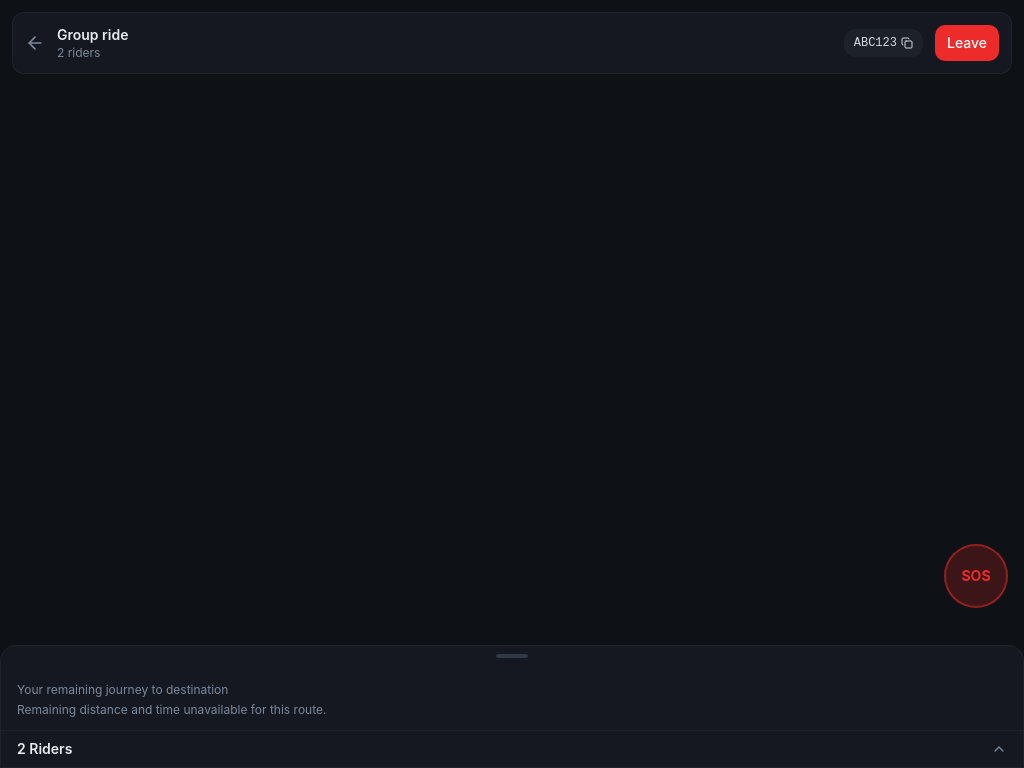
received SOS notifications › shows a send failure and allows retrying the off-route alert
Click the button named "Show riders" at (999, 749), box [991,741,1007,757]
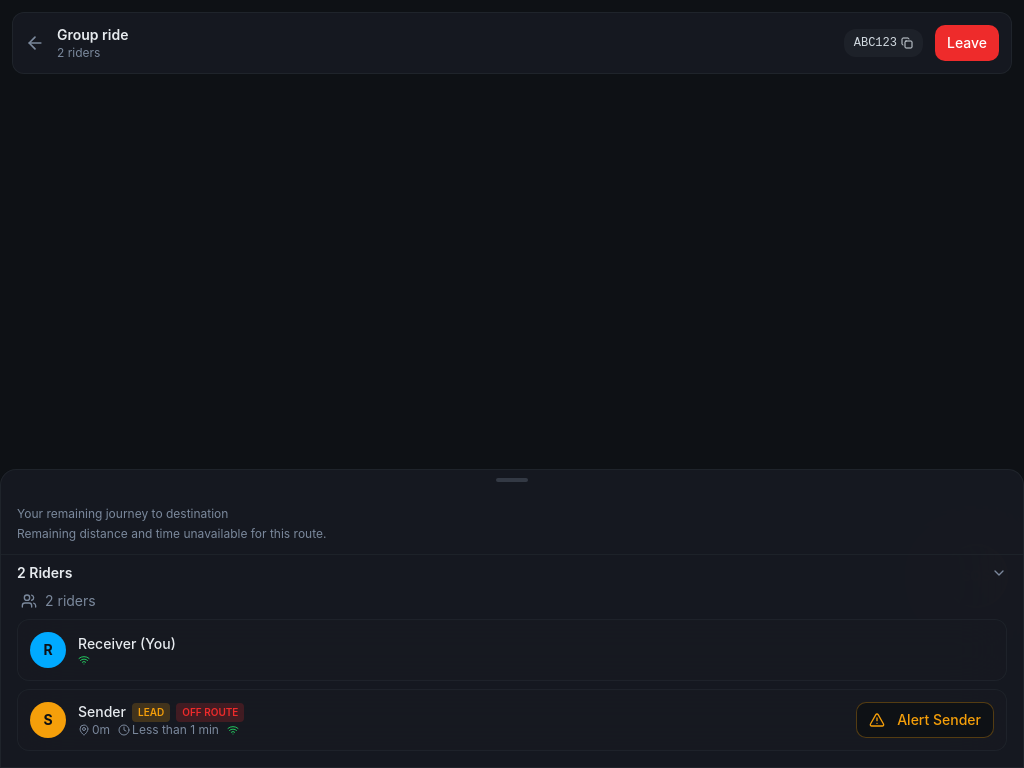
Click the button "Alert Sender" at (925, 720), box [856,702,994,738]
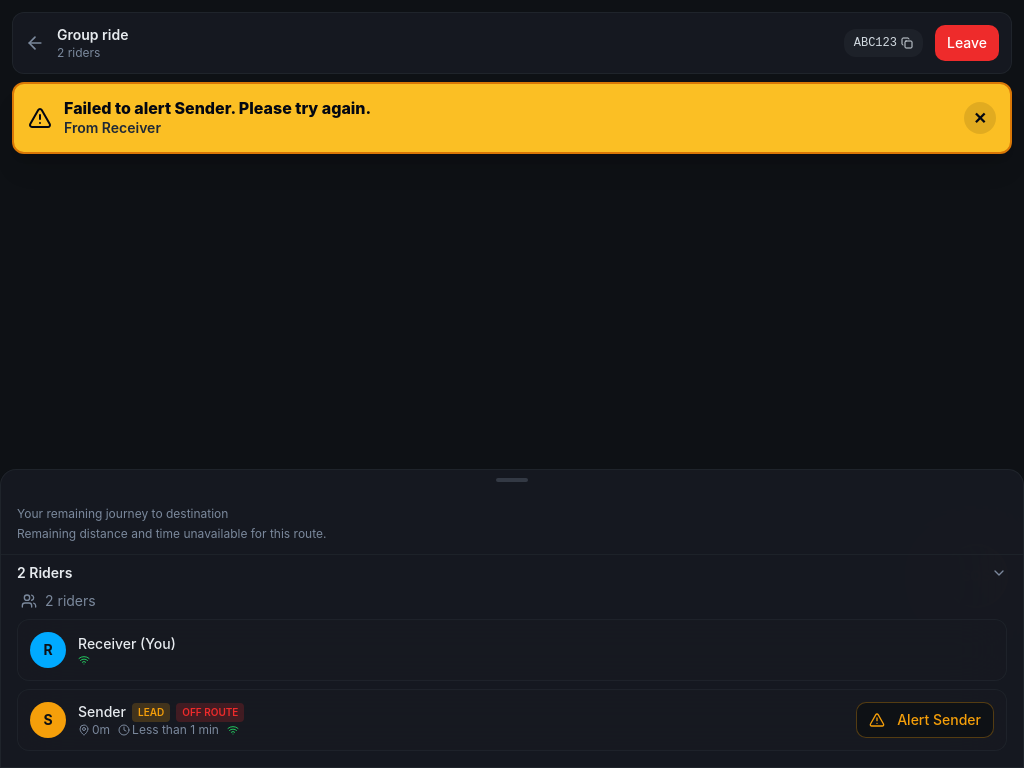
Now the button "Alert Sender" is enabled, box [856,702,994,738]
Now the text "Failed to alert Sender. Please try again." is shown, box [64,98,371,118]
